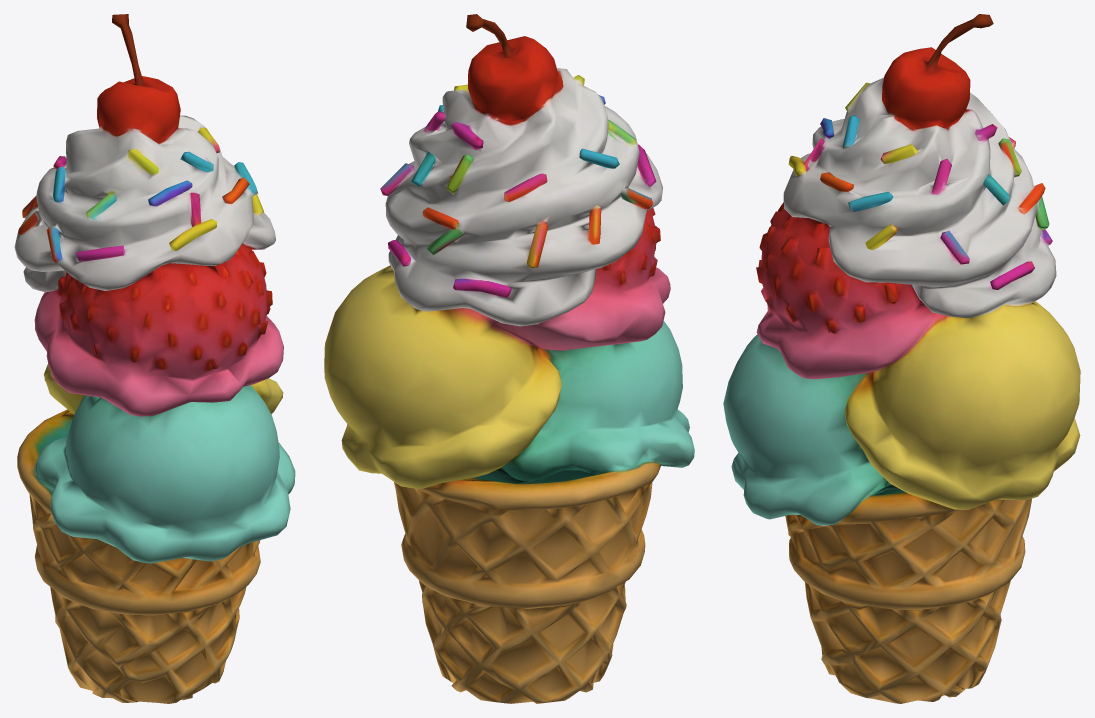
The model's file is deco_ice.glb.
3 renders of one model, left to right at view 1: azimuth 30°, elevation 25°; view 2: azimuth 150°, elevation 25°; view 3: azimuth 270°, elevation 25°, orthographic. The views are drawn at different scales.
Parts seen in each view (by area): view 1: tripo_node_f8a467db-6d18-43c5-ac2d-449d26260e1c; view 2: tripo_node_f8a467db-6d18-43c5-ac2d-449d26260e1c; view 3: tripo_node_f8a467db-6d18-43c5-ac2d-449d26260e1c.
Part boxes in pixels (bbox=[...]): tripo_node_f8a467db-6d18-43c5-ac2d-449d26260e1c: bbox=[14, 14, 295, 703]; tripo_node_f8a467db-6d18-43c5-ac2d-449d26260e1c: bbox=[324, 14, 694, 703]; tripo_node_f8a467db-6d18-43c5-ac2d-449d26260e1c: bbox=[723, 14, 1080, 703].
Bounding box in the file's own units: 0.4402 × 1 × 0.4899.
Materials: 1 (1 with a texture image).
